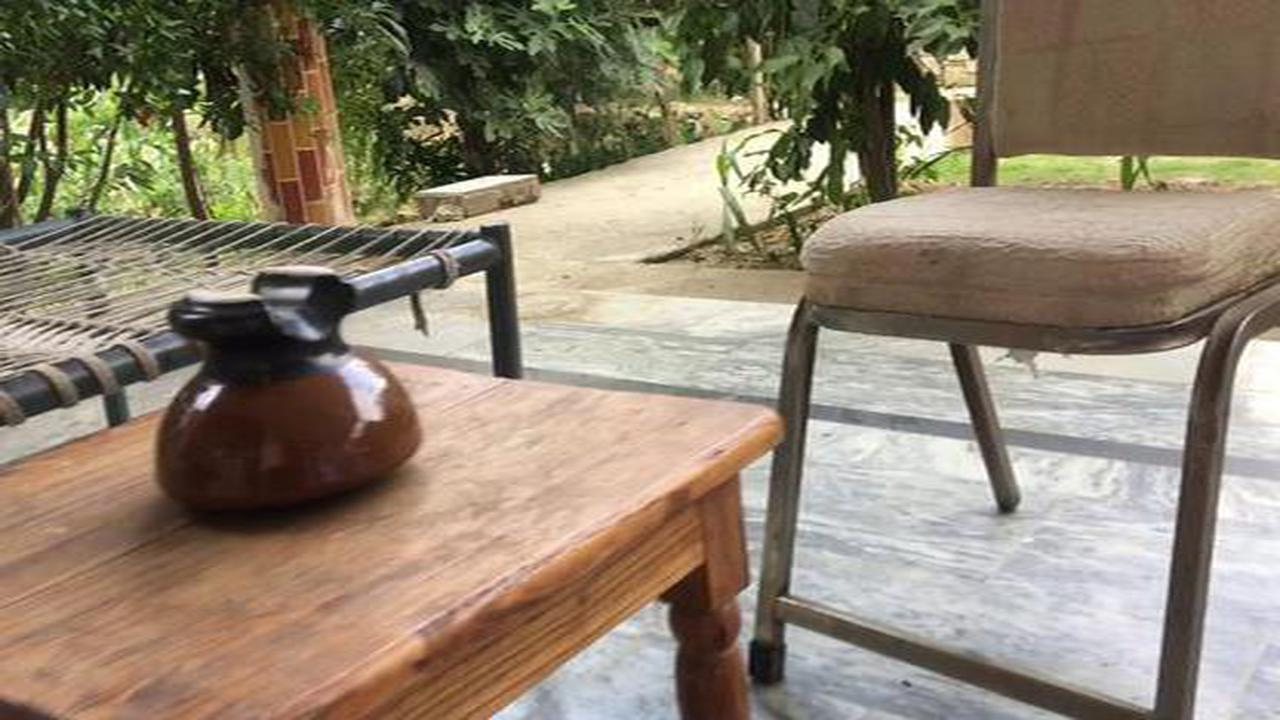insulator_pin: (139, 253, 444, 541)
